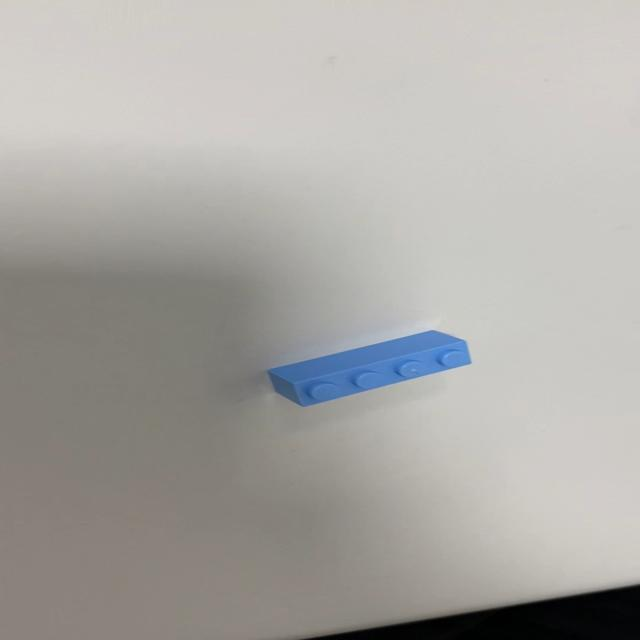C4x1x1: (265, 328, 473, 408)
